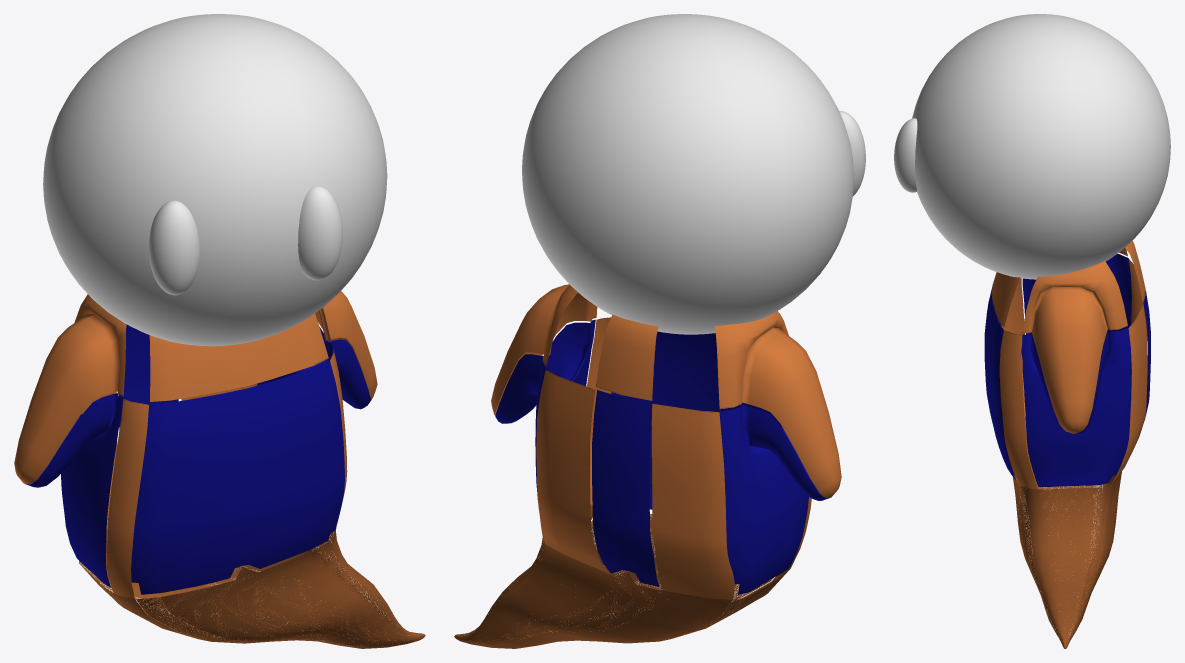
File: Conciencia.FBX
3 views of the same model, side by side, from view 1: azimuth 30°, elevation 25°; view 2: azimuth 150°, elevation 25°; view 3: azimuth 270°, elevation 25° (orthographic). The views are drawn at different scales.
Parts seen in each view (by area): view 1: Box001, Sphere001, Sphere002, Sphere003; view 2: Box001, Sphere001, Sphere002; view 3: Sphere001, Box001, Sphere003.
Part boxes in pixels (box(x1,y1,x2,y2)): Box001: box(14, 291, 425, 648); Sphere001: box(43, 14, 387, 346); Sphere002: box(148, 200, 199, 295); Sphere003: box(298, 185, 342, 280); Box001: box(454, 284, 841, 648); Sphere001: box(522, 14, 853, 334); Sphere002: box(839, 111, 865, 196); Sphere001: box(912, 14, 1170, 279); Box001: box(984, 241, 1150, 648); Sphere003: box(894, 118, 917, 192).
Bounding box in the file's own units: 36.42 × 58.4 × 27.33.
Materials: 1 (1 with a texture image).
